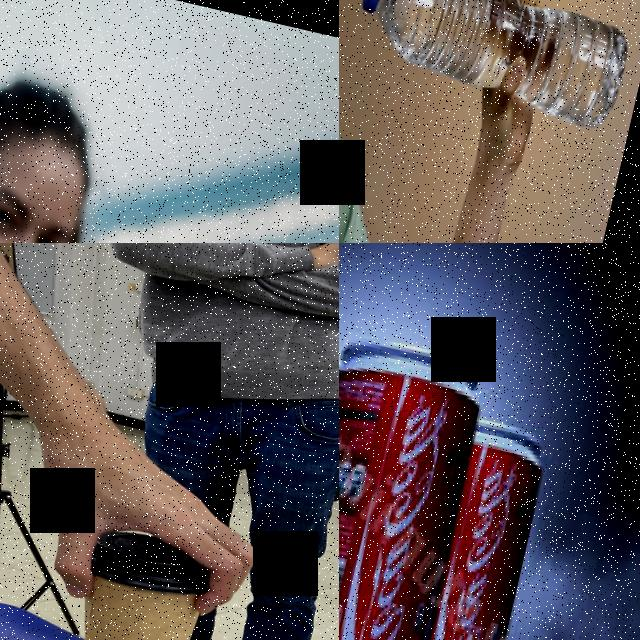bottle: (342, 0, 640, 132), (0, 38, 89, 243)
can: (339, 326, 494, 640), (411, 413, 553, 640)
cup: (54, 521, 226, 640)
